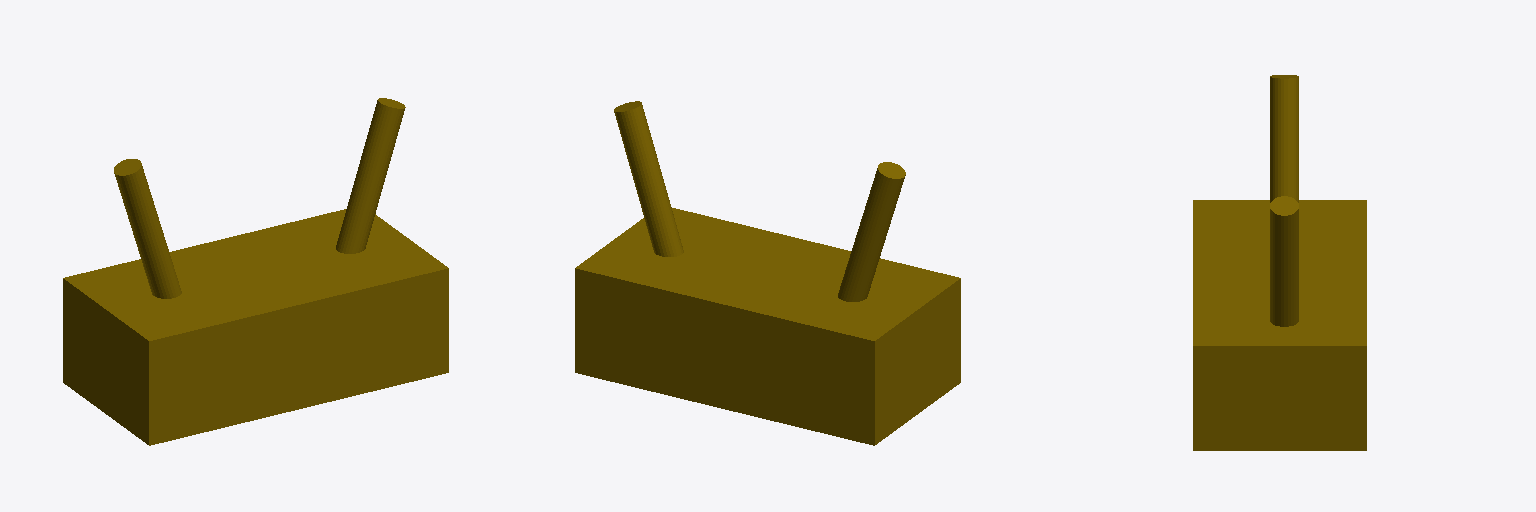
File: gateway.obj
3 renders of one model, left to right at view 1: azimuth 30°, elevation 25°; view 2: azimuth 150°, elevation 25°; view 3: azimuth 270°, elevation 25°, orthographic.
Parts seen in each view (by area): view 1: Rectangle001; view 2: Rectangle001; view 3: Rectangle001.
Boxes of the visible parts, x1,y1,x2,y2 form: Rectangle001: [63, 98, 448, 445]; Rectangle001: [575, 101, 960, 445]; Rectangle001: [1193, 75, 1366, 450].
Bounding box in the file's own units: 6 × 4.66 × 3.